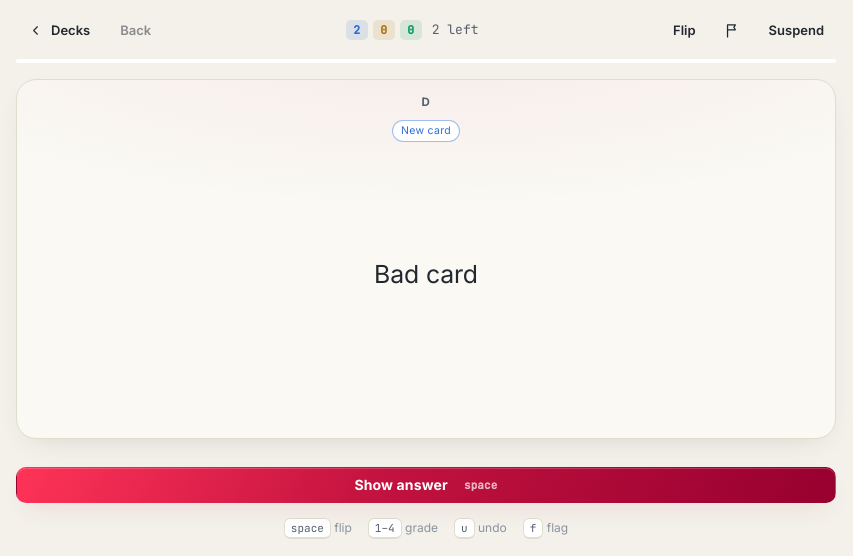
Test: suspending the card on screen › takes it out of the session and moves on
The image size is (853, 556).
Expected: the text "Bad card" is shown, x1=374 y1=259 x2=478 y2=289
Click the button "Suspend" at (796, 30), box x1=757 y1=16 x2=836 y2=45
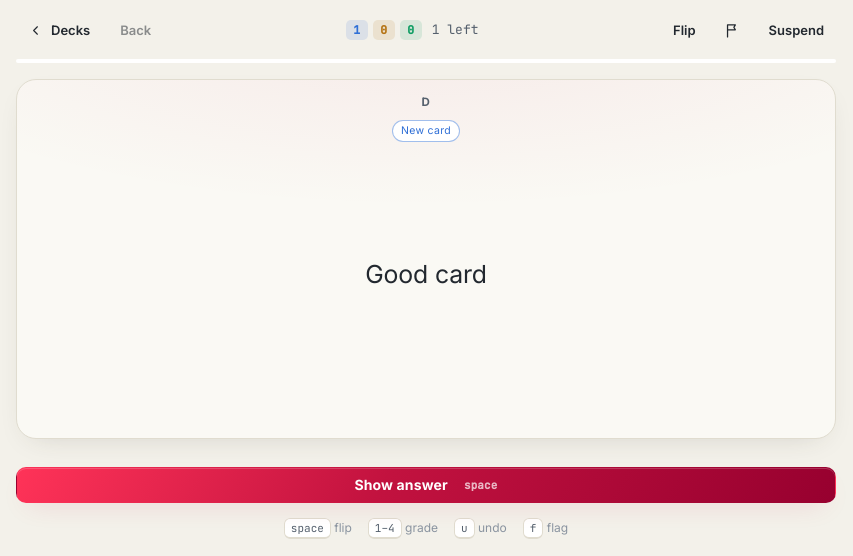
Expected: the text "Bad card" is gone
Expected: the text "Good card" is shown, x1=365 y1=259 x2=487 y2=289
